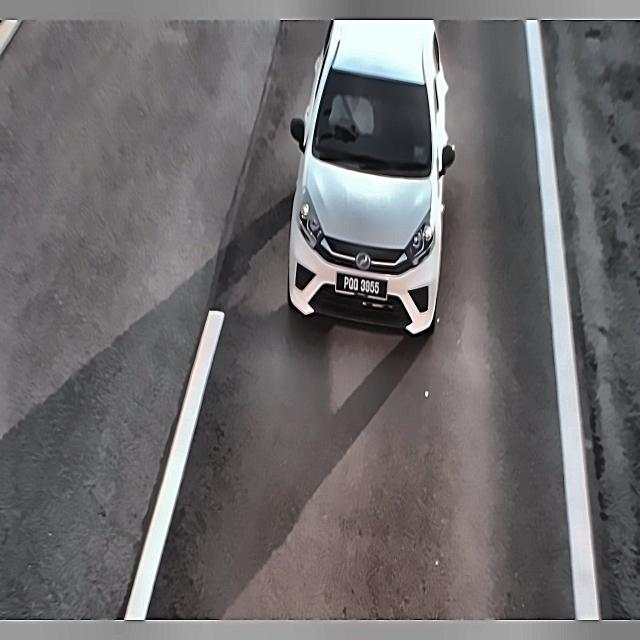car: (333, 264, 390, 307)
